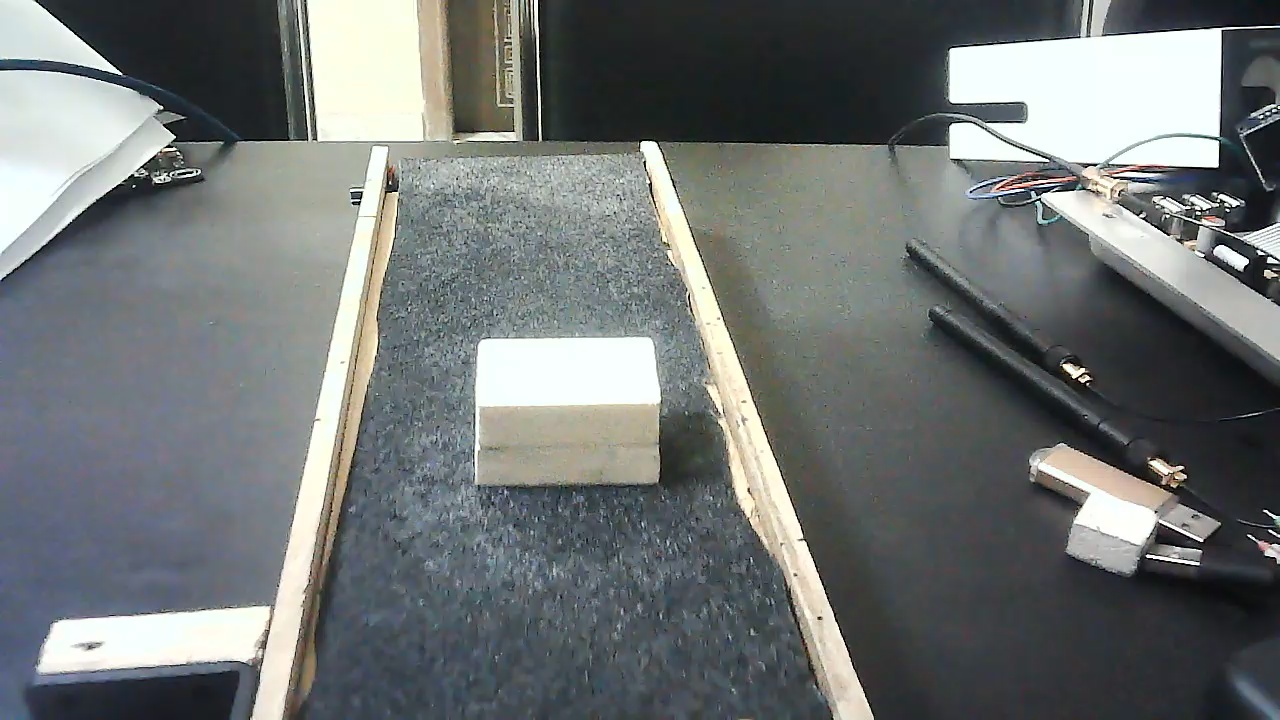BIG: (476, 318, 660, 502)
